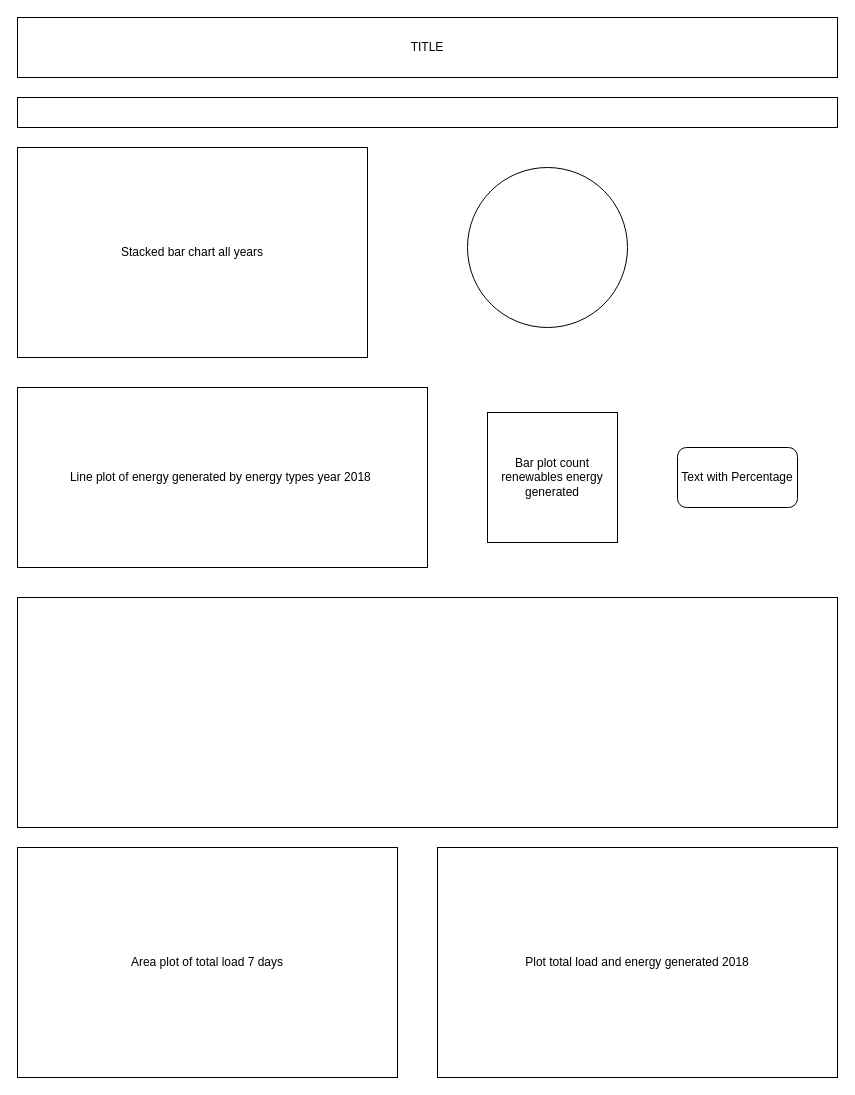
The diagram is 855 pixels wide and 1095 high, and some of its shapes have lost their labels. The centre of each missing label's shape, as x and y in pixels:
"Area plot of Total Load" goes at pixel 427 712.
"Pie of share of energy generated by energy type" goes at pixel 547 247.
"Subtitle and brief description" goes at pixel 427 112.
